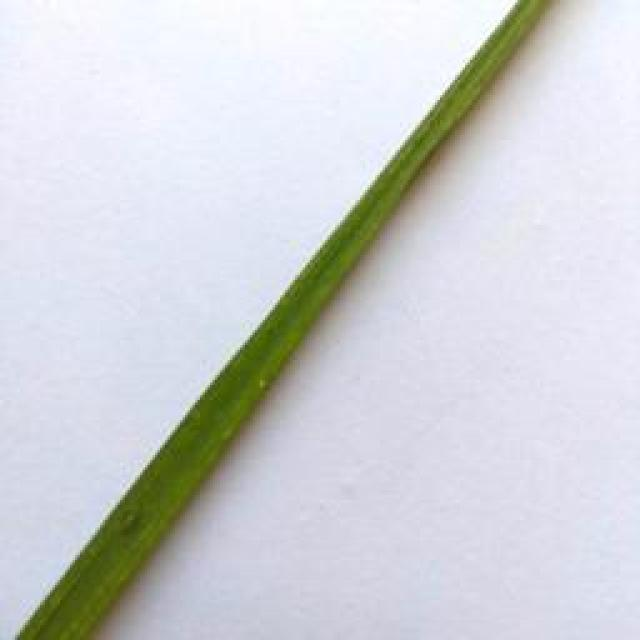Healthy-Plant: (13, 0, 554, 640)
